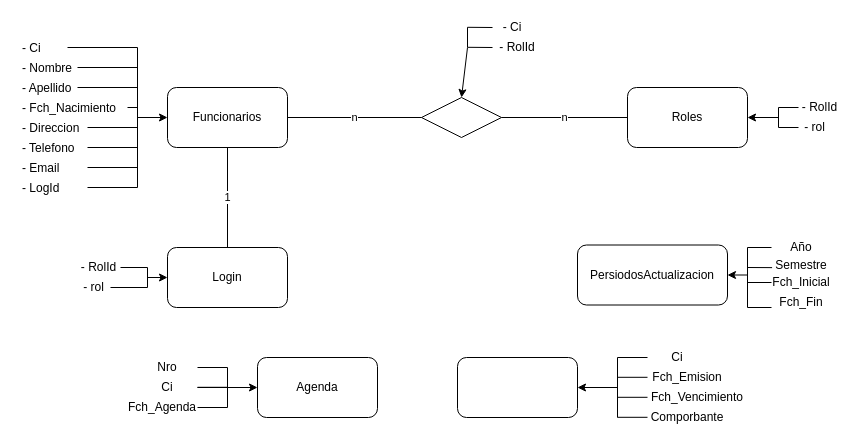
This 858x444 diagram has some shape labels left out. The centre of each missing label's shape, as x and y in pixels:
"CarnetSalud" goes at pixel 517 387.
"UsuarioRol" goes at pixel 461 117.
